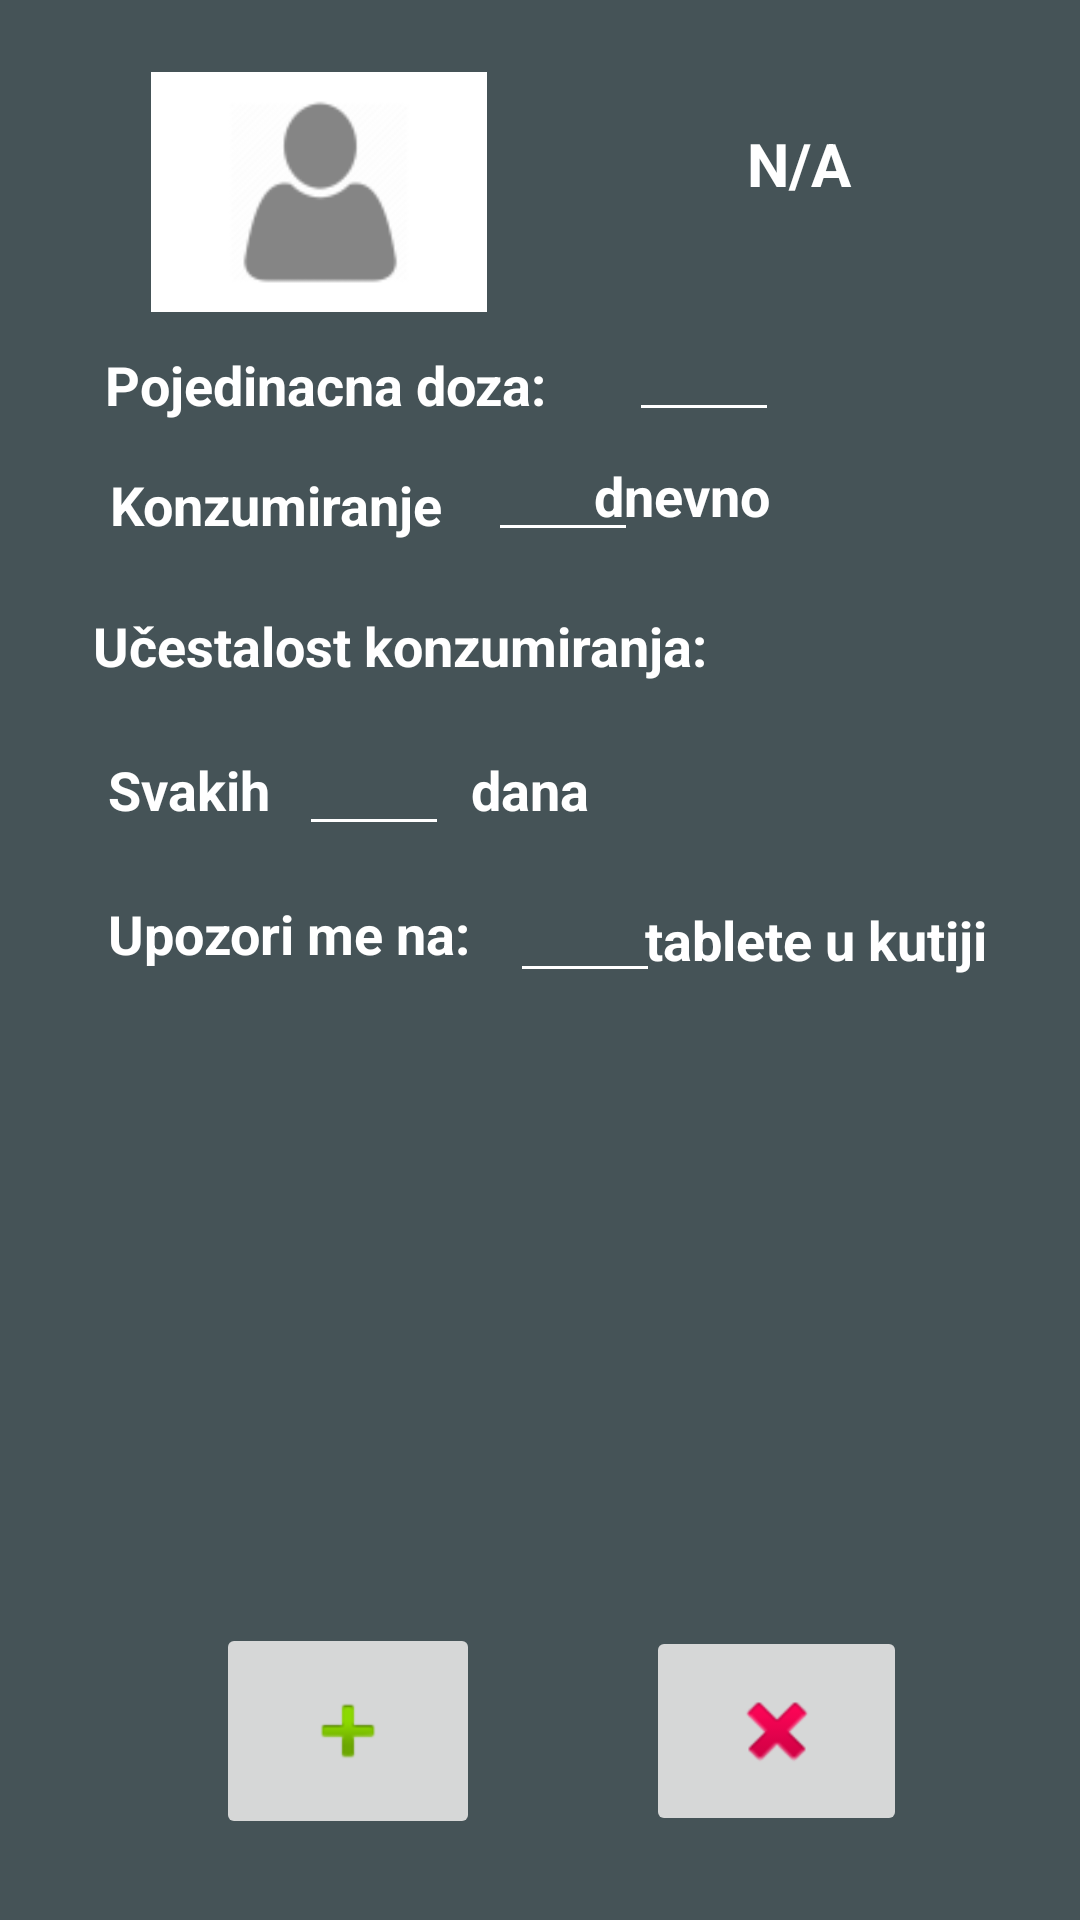

Screen size 1080 x 1920. Icon name, then its center in pixels as point (x, y):
add: point (348, 1731)
delete: point (776, 1731)
